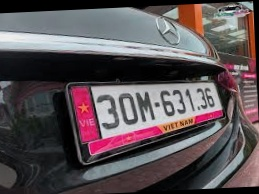Bien-so: (90, 84, 226, 139)
